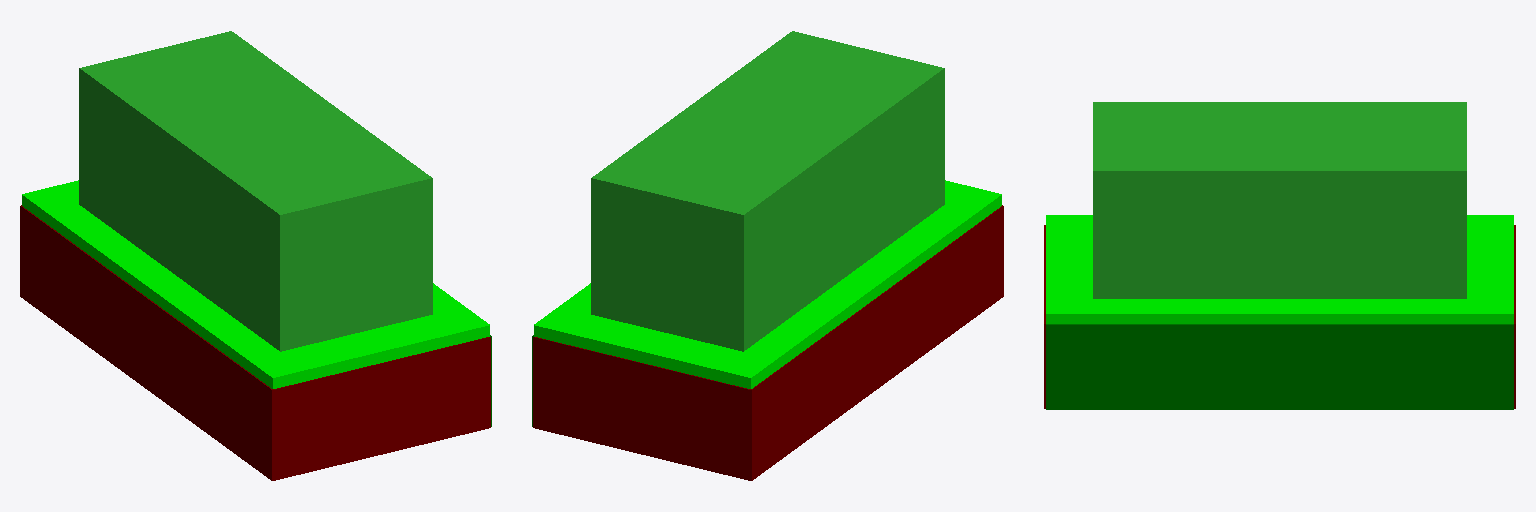
The robot description file, URDF, robot "cube_with_handles":
<?xml version="1.0"?>
<robot name="cube_with_handles">

  <link name="main_surf">
    <inertial>
      <origin rpy="0 0 0" xyz="0 0 0.0"/>
      <mass value="0.1"/>
      <inertia ixx="0.0001" ixy="0" ixz="0" iyy="0.0001" iyz="0" izz="0.0001"/>
    </inertial>
    <visual>
      <origin xyz="0 0 0"/>
      <geometry>
        <box size="0.1 0.2 0.02" />
      </geometry>
      <material name="green2">
        <color rgba="0 1 0 1.0"/>
      </material>
    </visual>
    <collision>
      <origin xyz="0 0 0"/>
      <geometry>
        <box size="0.1 0.2 0.02" />
      </geometry>
    </collision>
  </link>

<joint name="tubes" type="fixed">    
    <origin rpy="0 0 3.14159265359" xyz="0 0. 0.035"/>    
    <parent link="main_surf"/>
    <child link="tubes"/>
  </joint>
  <link name="tubes">
    <inertial>
      <origin rpy="0 0 0" xyz="0 0 0"/>
      <mass value="0.00"/>
      <inertia ixx="0.0001" ixy="0" ixz="0" iyy="0.0001" iyz="0" izz="0.0001"/>
    </inertial>
    <visual>
      <origin xyz="0 0 0"/>
      <geometry>
        <box size="0.07 0.16 0.07" />
      </geometry>
      <material name="gray">
        <color rgba="0.2 0.7 0.2 1.0"/>
      </material>
    </visual>
    <collision>
      <origin xyz="0 0 0"/>
      <geometry>
        <box size="0.07 0.16 0.07" />
      </geometry>
    </collision>
  </link>

<joint name="edge1" type="fixed">    
    <origin rpy="0 0 3.14159265359" xyz="0 0.1 -0.015"/>    
    <parent link="main_surf"/>
    <child link="edge_1"/>
  </joint>
  <link name="edge_1">
    <inertial>
      <origin rpy="0 0 0" xyz="0 0 0"/>
      <mass value="0.005"/>
      <inertia ixx="0.0001" ixy="0" ixz="0" iyy="0.0001" iyz="0" izz="0.0001"/>
    </inertial>
    <visual>
      <origin xyz="0 0 0"/>
      <geometry>
        <box size="0.1 0.001 0.04" />
      </geometry>
      <material name="green">
        <color rgba="0.5 0. 0 1.0"/>
      </material>
    </visual>
    <collision>
      <origin xyz="0 0 0"/>
      <geometry>
        <box size="0.1 0.001 0.04" />
      </geometry>
    </collision>
  </link>

<joint name="edge2" type="fixed">    
    <origin rpy="0 0 3.14159265359" xyz="0 -0.1 -0.015"/>    
    <parent link="main_surf"/>
    <child link="edge_2"/>
  </joint>
  <link name="edge_2">
    <inertial>
      <origin rpy="0 0 0" xyz="0 0 0"/>
      <mass value="0.005"/>
      <inertia ixx="0.0001" ixy="0" ixz="0" iyy="0.0001" iyz="0" izz="0.0001"/>
    </inertial>
    <visual>
      <origin xyz="0 0 0"/>
      <geometry>
        <box size="0.1 0.001 0.04" />
      </geometry>
      <material name="green">
        <color rgba="0.5 0. 0 1.0"/>
      </material>
    </visual>
    <collision>
      <origin xyz="0 0 0"/>
      <geometry>
        <box size="0.1 0.001 0.04" />
      </geometry>
    </collision>
  </link>

<joint name="edge3" type="fixed">    
    <origin rpy="0 0 3.14159265359" xyz="-0.05 -0. -0.015"/>    
    <parent link="main_surf"/>
    <child link="edge_3"/>
  </joint>
  <link name="edge_3">
    <inertial>
      <origin rpy="0 0 0" xyz="0 0 0"/>
      <mass value="0.05"/>
      <inertia ixx="0.0001" ixy="0" ixz="0" iyy="0.0001" iyz="0" izz="0.0001"/>
    </inertial>
    <visual>
      <origin xyz="0 0 0"/>
      <geometry>
        <box size="0.001 0.2 0.04" />
      </geometry>
      <material name="green">
        <color rgba="0.5 0. 0 1.0"/>
      </material>
    </visual>
    <collision>
      <origin xyz="0 0 0"/>
      <geometry>
        <box size="0.001 0.2 0.04" />
      </geometry>
    </collision>
  </link>


<joint name="edge4" type="fixed">    
    <origin rpy="0 0 -3.14159265359" xyz="0.05 -0. -0.015"/>    
    <parent link="main_surf"/>
    <child link="edge_4"/>
  </joint>
  <link name="edge_4">
    <inertial>
      <origin rpy="0 0 0" xyz="0 0 0"/>
      <mass value="0.05"/>
      <inertia ixx="0.0001" ixy="0" ixz="0" iyy="0.0001" iyz="0" izz="0.0001"/>
    </inertial>
    <visual>
      <origin xyz="0 0 0"/>
      <geometry>
        <box size="0.001 0.2 0.04" />
      </geometry>
      <material name="green">
        <color rgba="0. 0.5 0 1.0"/>
      </material>
    </visual>
    <collision>
      <origin xyz="0 0 0"/>
      <geometry>
        <box size="0.001 0.2 0.04" />
      </geometry>
    </collision>
  </link>


</robot>

--- What the picture shows (computed from the rendered views, not written in the file) ---
Views: 3 orthographic renders of the robot side by side, from view 1: azimuth 30°, elevation 25°; view 2: azimuth 150°, elevation 25°; view 3: azimuth 270°, elevation 25°.
Model cube_with_handles with 6 links and 5 joints (5 fixed), rooted at main_surf, posed all joints at 0.
Links seen in each view (by area): view 1: tubes, edge_3, edge_2, main_surf; view 2: tubes, edge_3, edge_1, main_surf; view 3: tubes, edge_4, main_surf.
Boxes of the visible links, box(x1,y1,x2,y2) form: tubes: box(79, 31, 432, 351); edge_3: box(20, 206, 272, 480); edge_2: box(273, 337, 490, 480); main_surf: box(22, 180, 489, 388); tubes: box(591, 31, 944, 351); edge_3: box(751, 206, 1003, 480); edge_1: box(533, 337, 750, 480); main_surf: box(534, 180, 1001, 388); tubes: box(1093, 102, 1466, 298); edge_4: box(1046, 324, 1513, 409); main_surf: box(1046, 215, 1513, 323).
Bounding box of the posed robot: 0.101 × 0.201 × 0.105 m (x, y, z).
Geometry: primitives only (box / cylinder / sphere), no mesh files.